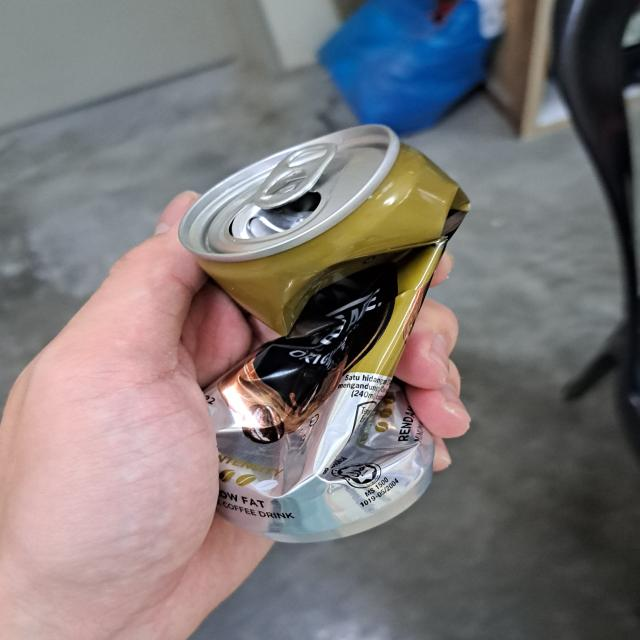can: (182, 123, 474, 542)
pop tab: (257, 140, 340, 211)
